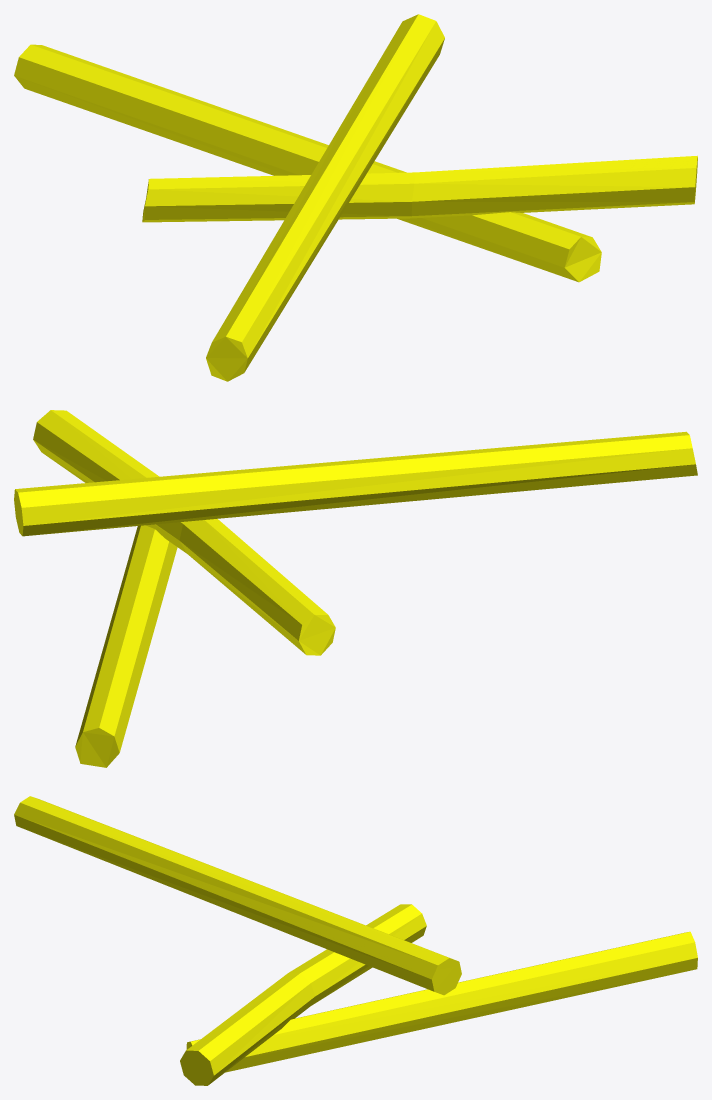
The model's file is camp_woodhut_break03.glb.
3 renders of one model, top to bottom at view 1: azimuth 30°, elevation 25°; view 2: azimuth 150°, elevation 25°; view 3: azimuth 270°, elevation 25°, orthographic. The views are drawn at different scales.
Visible parts, largest first — view 1: camp_woodhut_break03; view 2: camp_woodhut_break03; view 3: camp_woodhut_break03.
Boxes of the visible parts, x1,y1,x2,y2 form: camp_woodhut_break03: (14, 14, 697, 381); camp_woodhut_break03: (14, 410, 697, 767); camp_woodhut_break03: (14, 796, 697, 1085).
Size of the model in its own units: 4.26 by 0.9907 by 5.26.
Materials: 1 (1 with a texture image).
